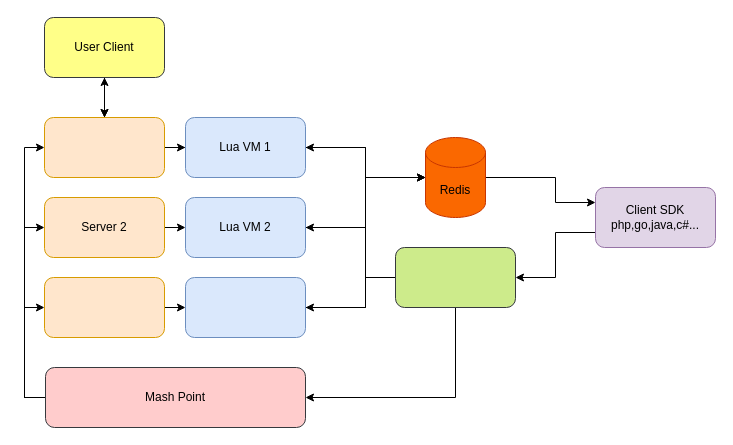
This 733x445 diagram has some shape labels left out. Each missing label, with the centre of its shape:
API Server: [455,277]
Lua VM N: [245,307]
Server 1: [104,147]
Server N: [104,307]
